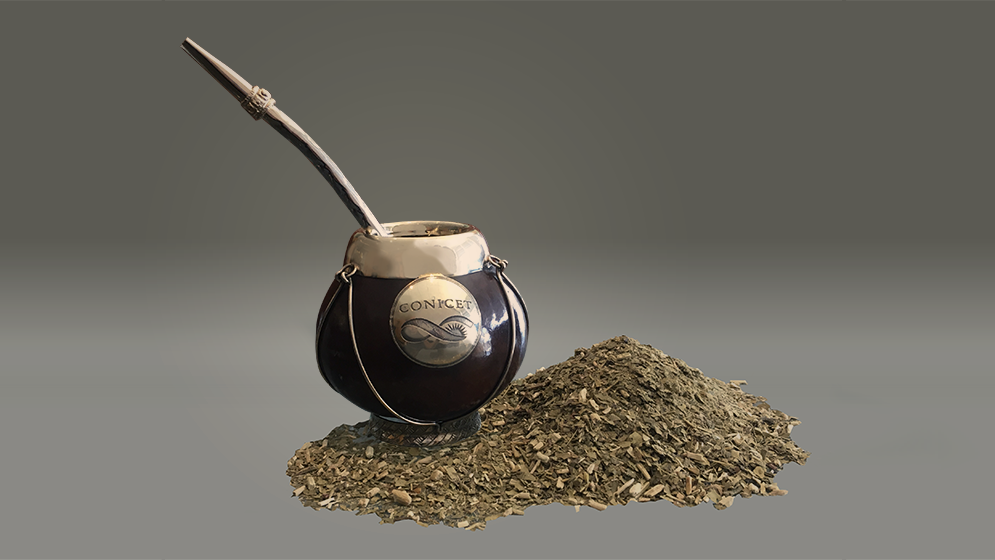calabaza: (294, 163, 542, 450)
mate: (296, 165, 544, 452)
